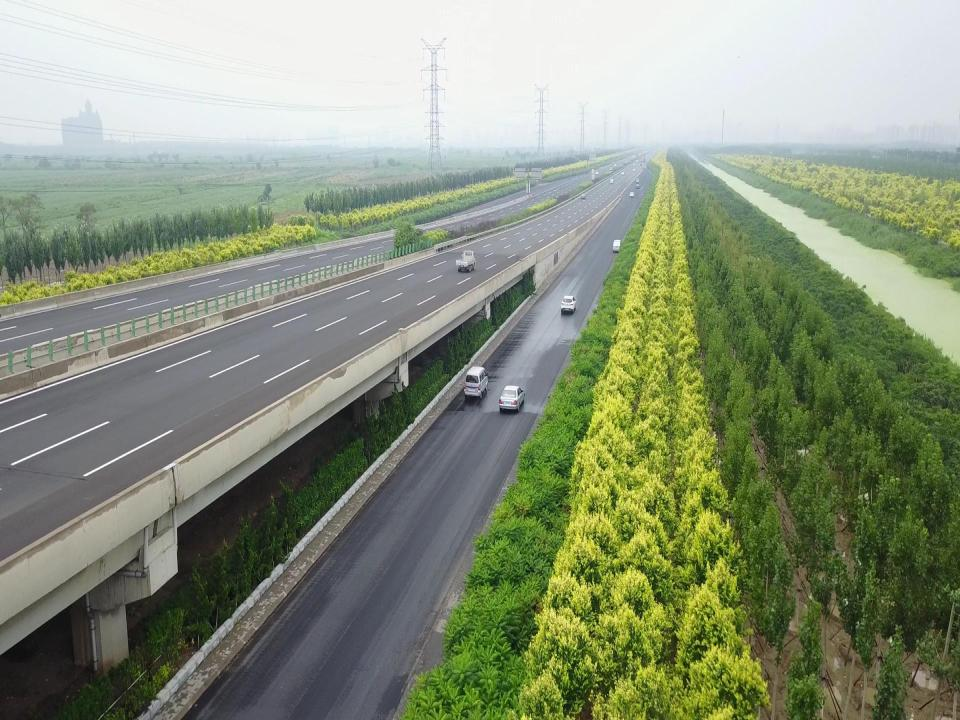car: (499, 386, 525, 412), (560, 295, 576, 314), (580, 194, 586, 199), (629, 192, 634, 197), (636, 184, 640, 189)
truck: (456, 249, 476, 273)
van: (464, 366, 488, 398), (612, 240, 622, 254), (636, 178, 640, 183)
